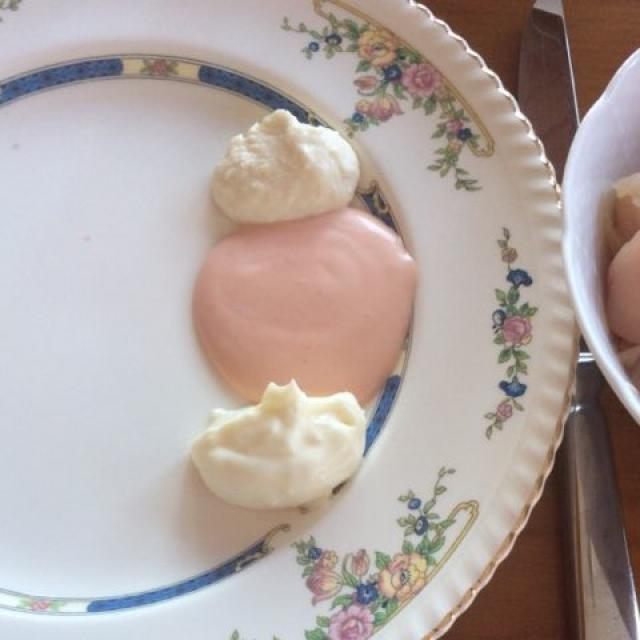mayonnaise: (210, 115, 369, 504)
sauce: (206, 218, 423, 403)
